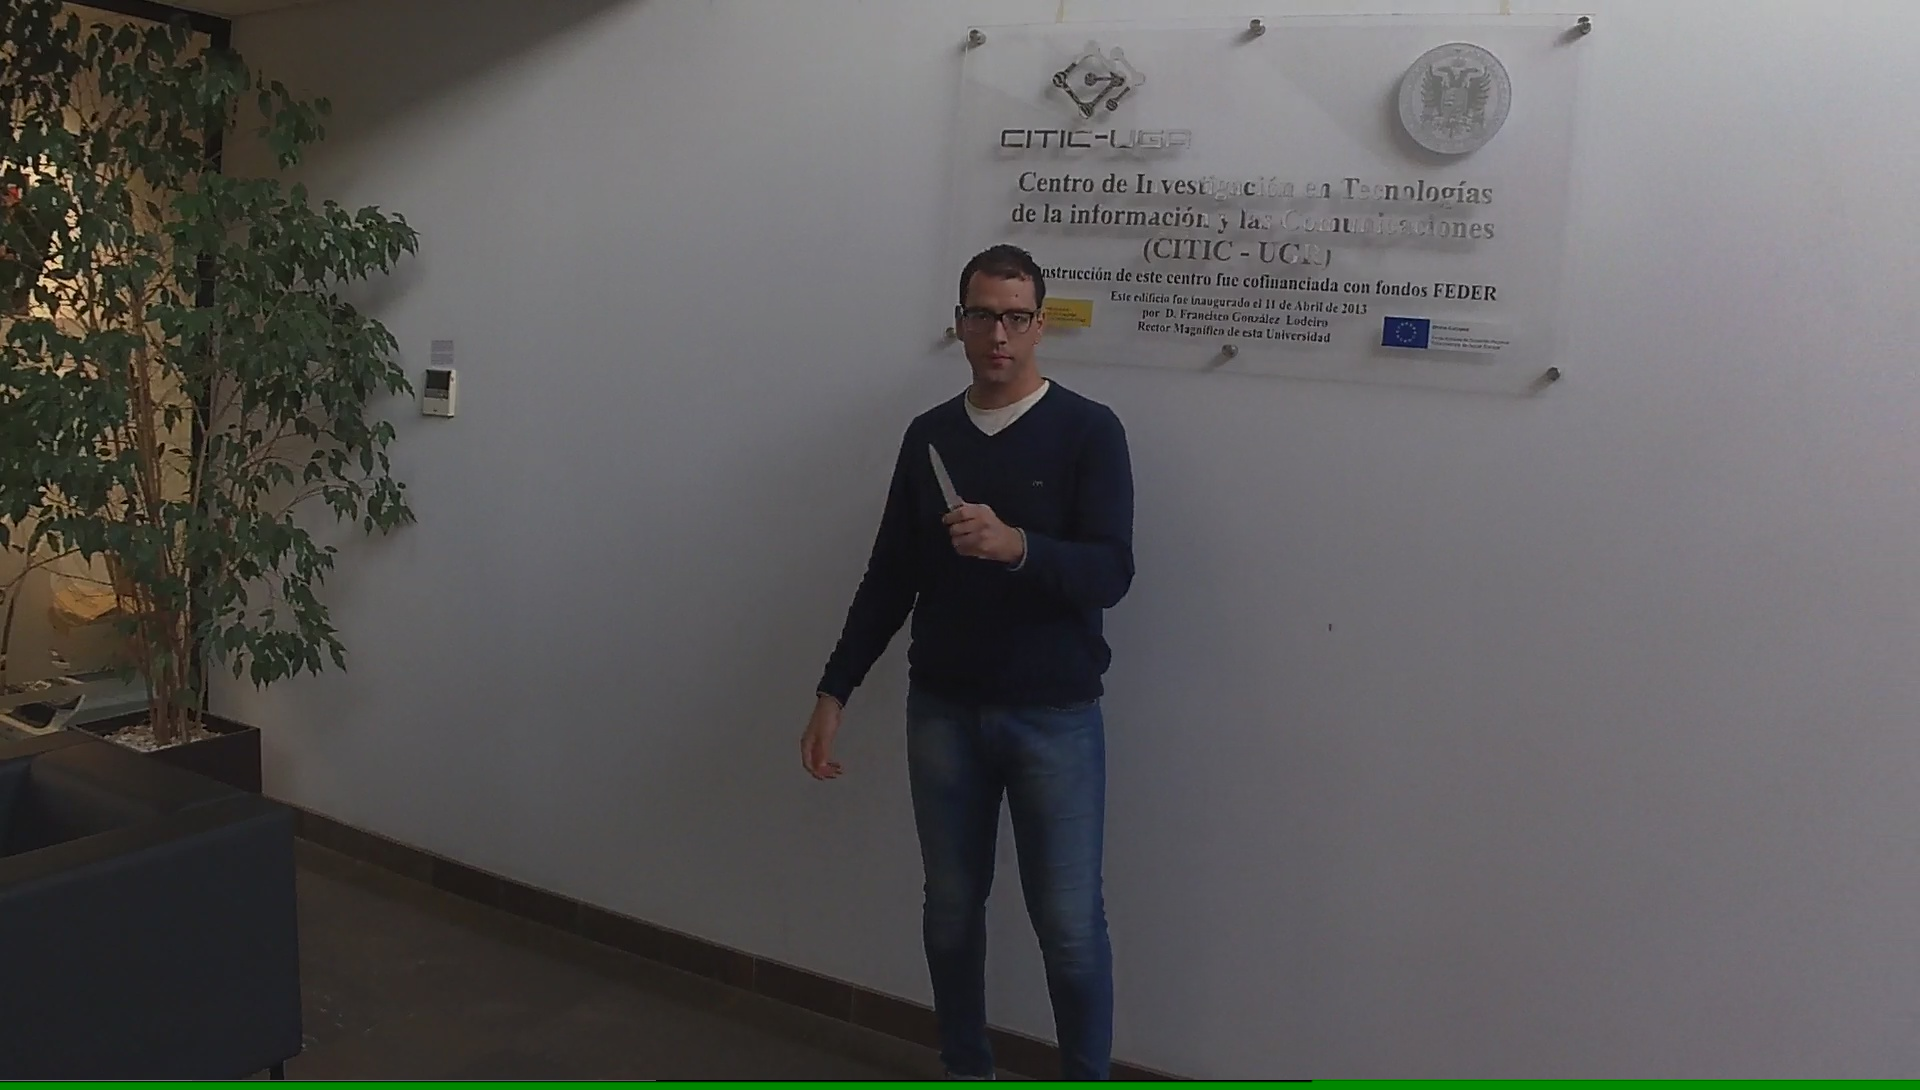knife: (919, 436, 978, 540)
